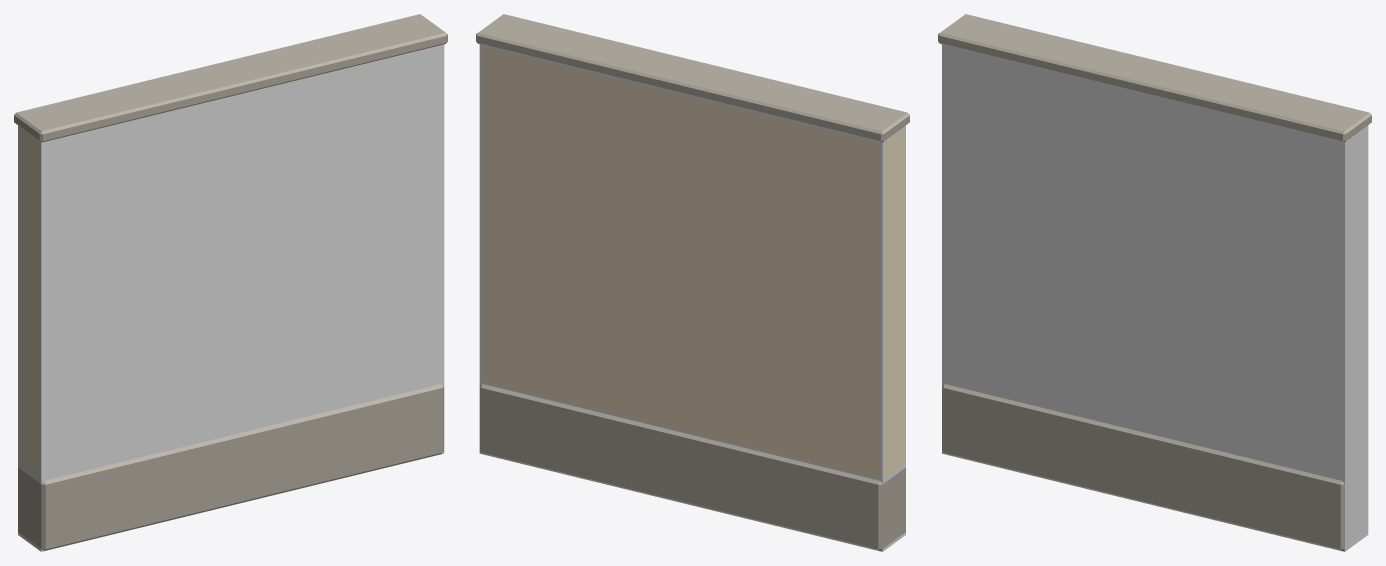
File: bld_wall_plain_a.glb
The picture shows the model from 3 angles, left to right: view 1: azimuth 30°, elevation 25°; view 2: azimuth 150°, elevation 25°; view 3: azimuth 330°, elevation 25°; orthographic projection.
Visible parts, largest first — view 1: COL_bld_wall_plain_a_1, bld_wall_plain_a; view 2: bld_wall_plain_a, COL_bld_wall_plain_a_1; view 3: COL_bld_wall_plain_a_1, bld_wall_plain_a.
Part boxes in pixels (bbox=[...]): COL_bld_wall_plain_a_1: bbox=[18, 44, 444, 551]; bld_wall_plain_a: bbox=[14, 14, 447, 550]; bld_wall_plain_a: bbox=[476, 14, 909, 550]; COL_bld_wall_plain_a_1: bbox=[479, 44, 905, 551]; COL_bld_wall_plain_a_1: bbox=[942, 44, 1368, 551]; bld_wall_plain_a: bbox=[938, 14, 1371, 550].
Size of the model in its own units: 3.04 by 3 by 0.36.
